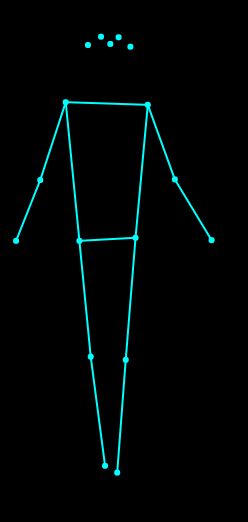mountain: (10, 25, 218, 481)
